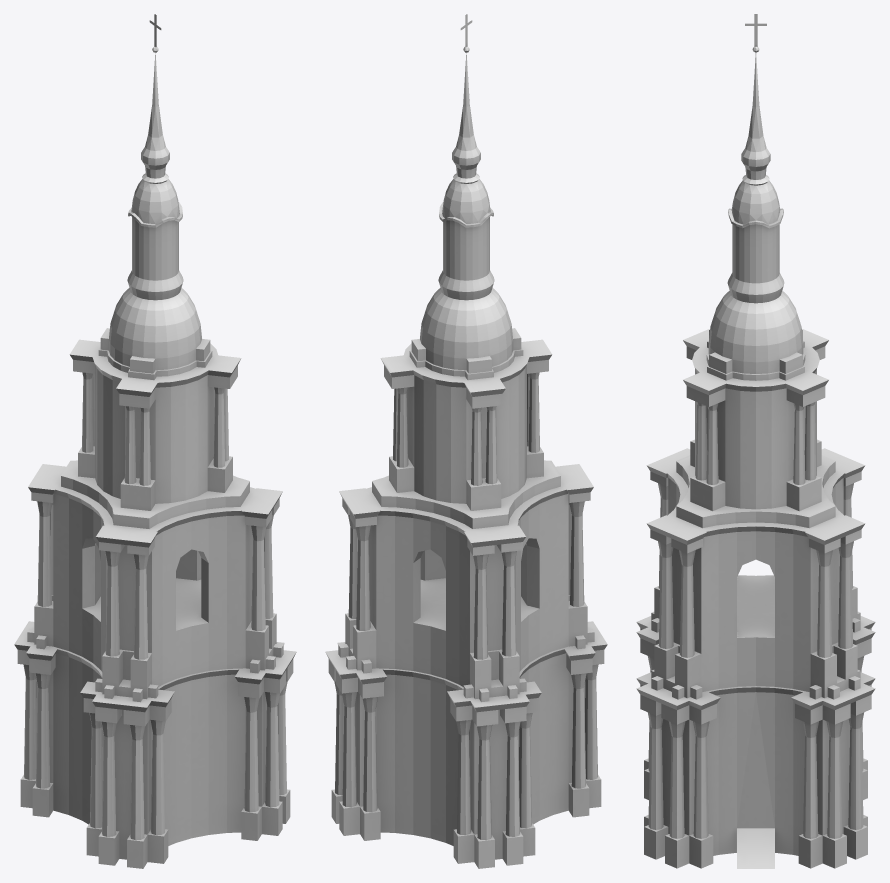
File: belltowernikolskiysobor.dae
3 views of the same model, side by side, from view 1: azimuth 30°, elevation 25°; view 2: azimuth 150°, elevation 25°; view 3: azimuth 270°, elevation 25° (orthographic).
Parts seen in each view (by area): view 1: BellTowerNikolskiySobor; view 2: BellTowerNikolskiySobor; view 3: BellTowerNikolskiySobor.
Boxes of the visible parts, box(x1,y1,x2,y2) form: BellTowerNikolskiySobor: box(14, 14, 296, 868); BellTowerNikolskiySobor: box(325, 14, 607, 868); BellTowerNikolskiySobor: box(636, 14, 875, 868).
Size of the model in its own units: 0.017 by 0.017 by 0.0633.
Materials: 1 (1 with a texture image).
